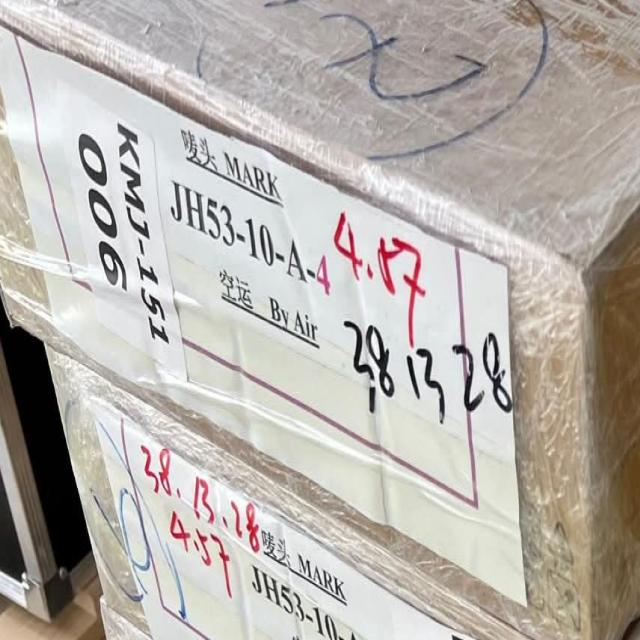carton_box: (0, 0, 640, 637)
export_mark_label: (0, 20, 523, 552)
